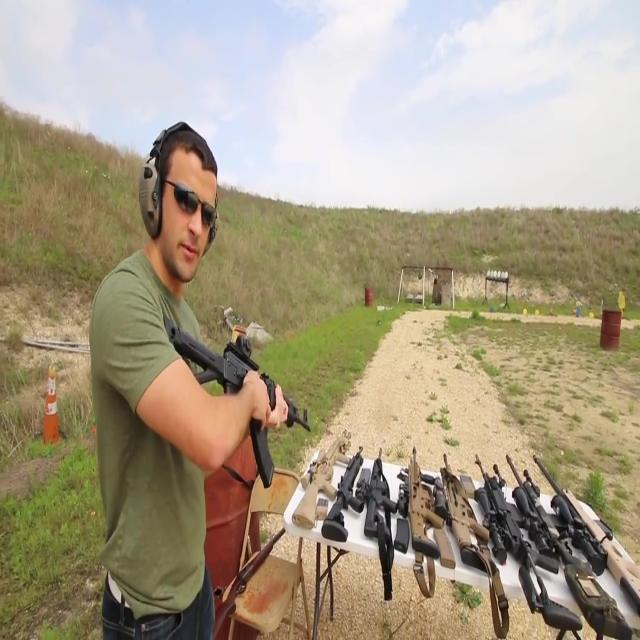Weapon: (296, 403, 640, 640), (150, 299, 340, 515)
